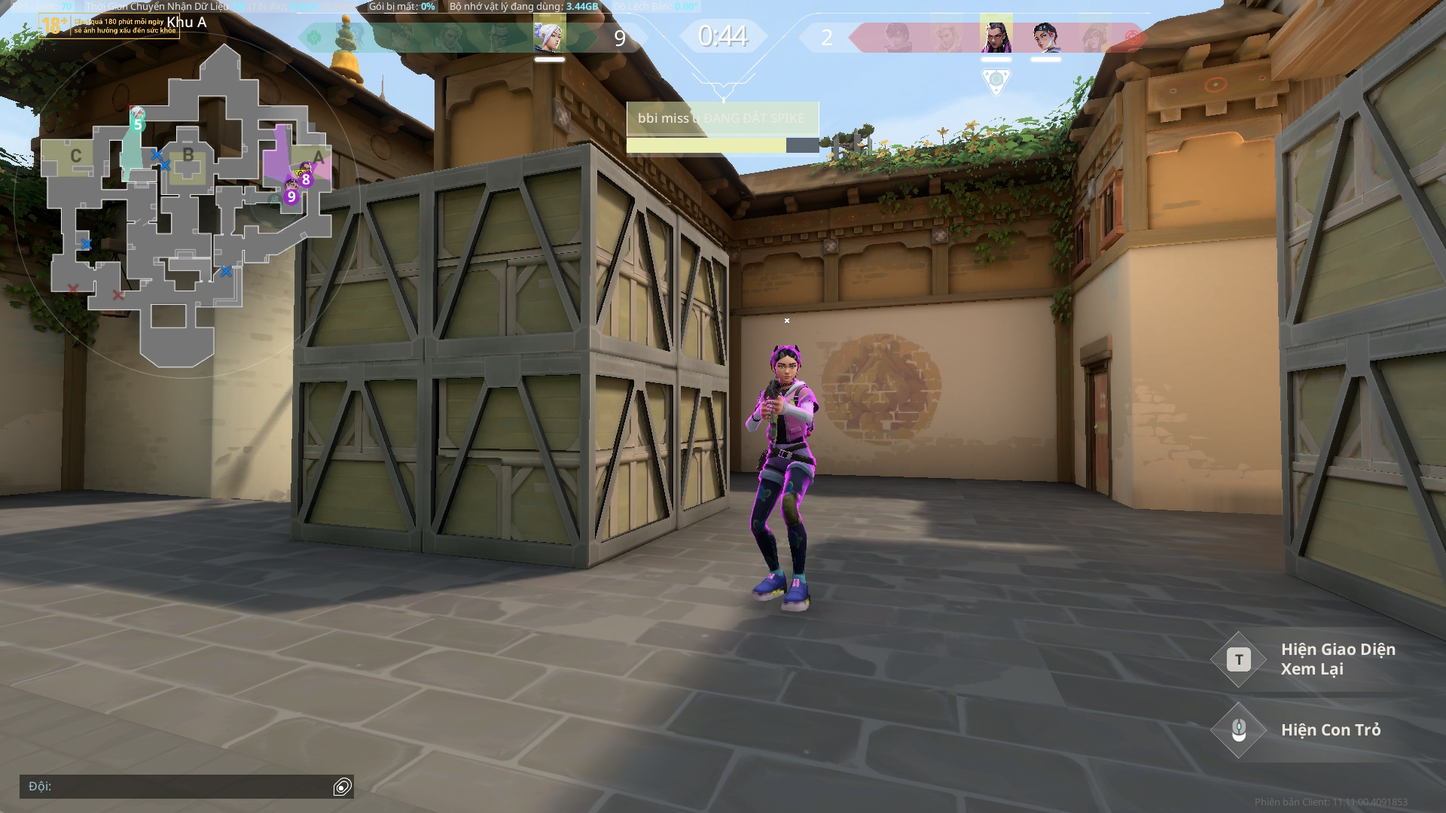body: (757, 382, 818, 447)
head: (771, 340, 810, 385)
